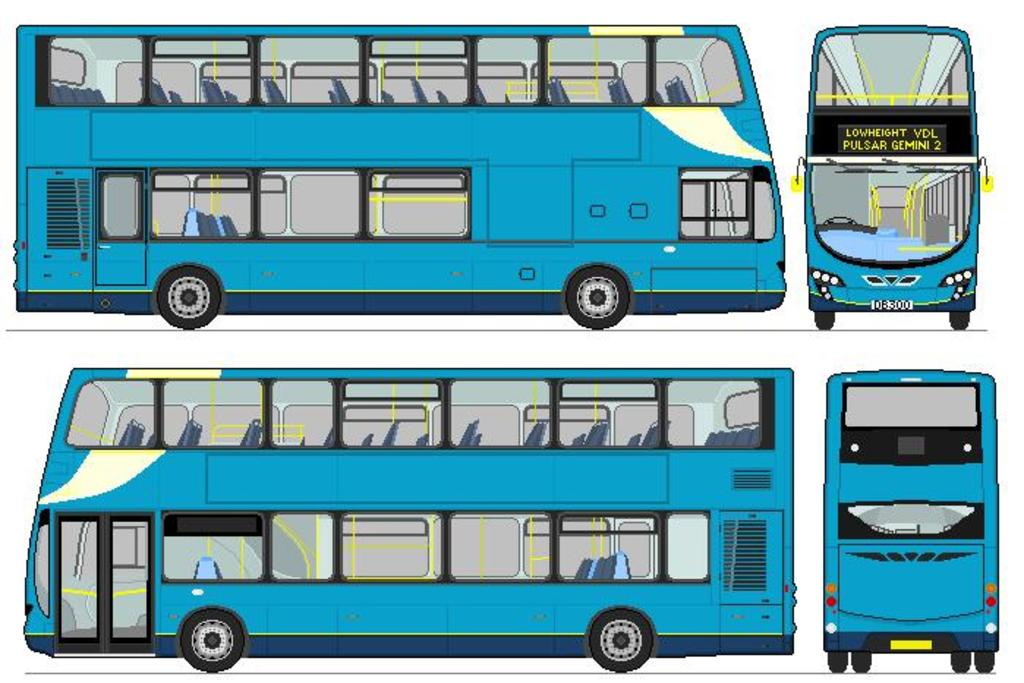Bus: (10, 21, 786, 332), (21, 364, 796, 675), (792, 23, 991, 328), (823, 366, 1002, 677)
